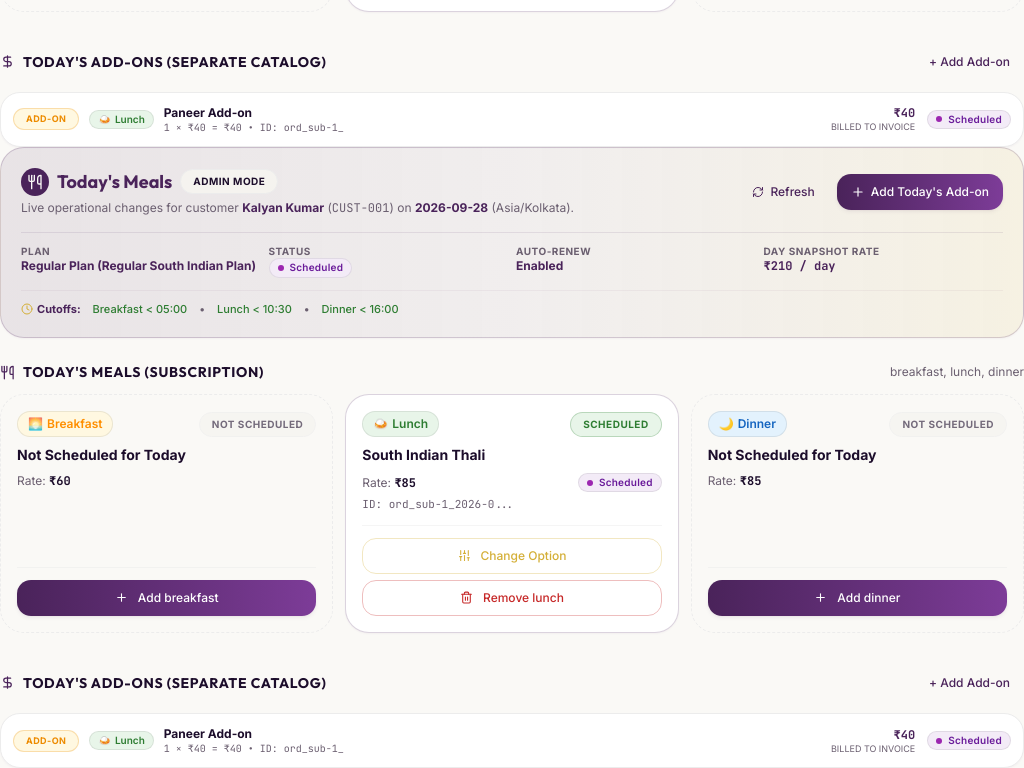
Test case: CustomerTodayMealsTab UI Component › clicking Remove Lunch opens confirmation modal with cancellation adjustment preview
The image size is (1024, 768).
(page scrolled)
Click the button "Remove lunch" at (512, 598), box [362,580,662,616]
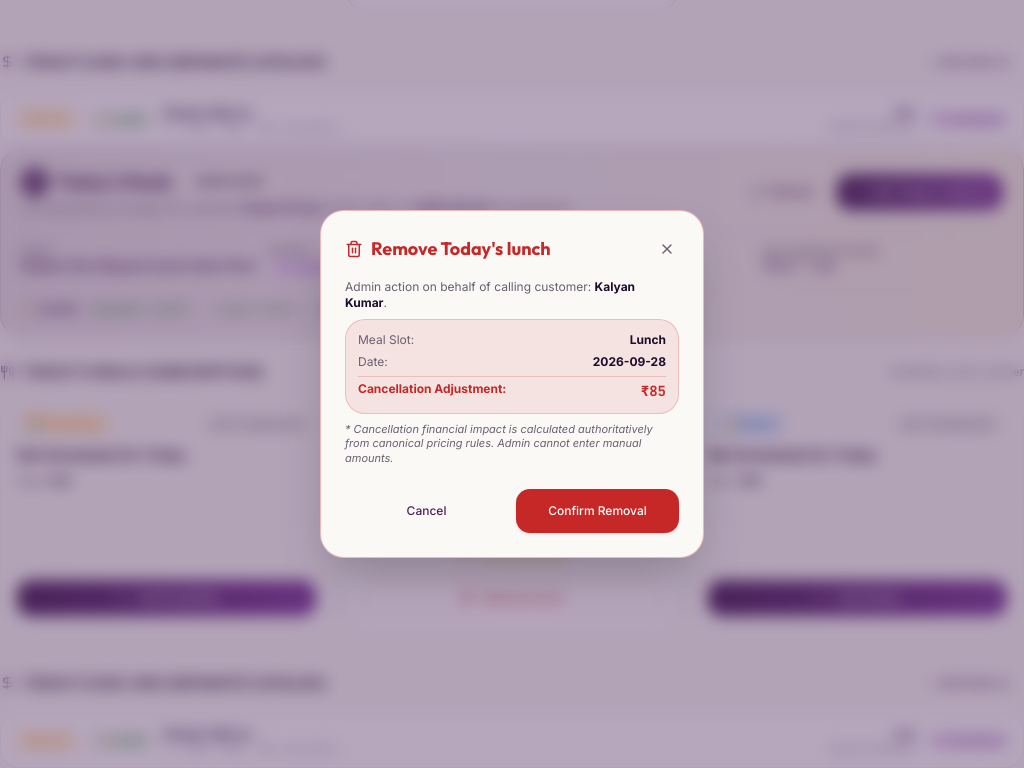
Expected: the text "Cancellation Adjustment:" is shown, [358,380,506,400]
Expected: the text "Confirm Removal" is shown, [516,490,679,534]
